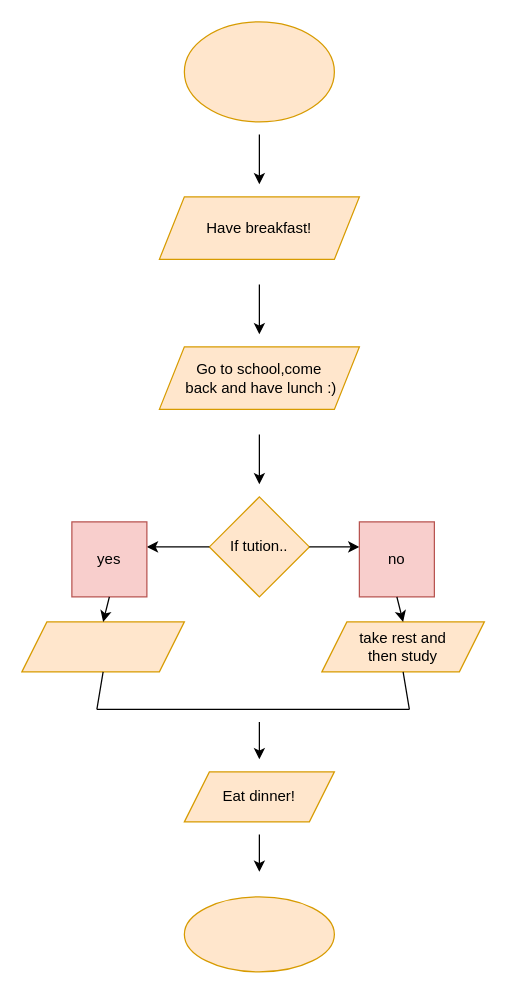
Image size: 506x994. Some labels were removed from this diagram. The centre of each missing label's shape, as x and y in pixels:
attend tution and then take rest: point 102,646
Good Morning!: point 258,71
Good Night!: point 258,934
